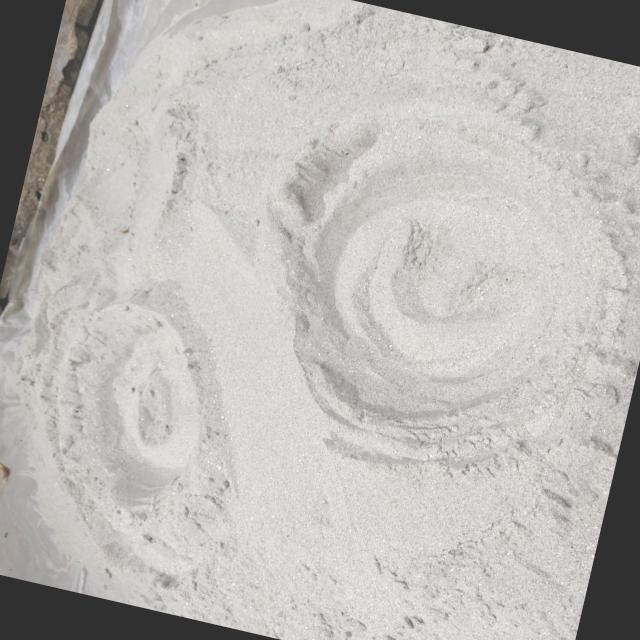C20: (275, 109, 631, 459), (60, 303, 203, 501)
